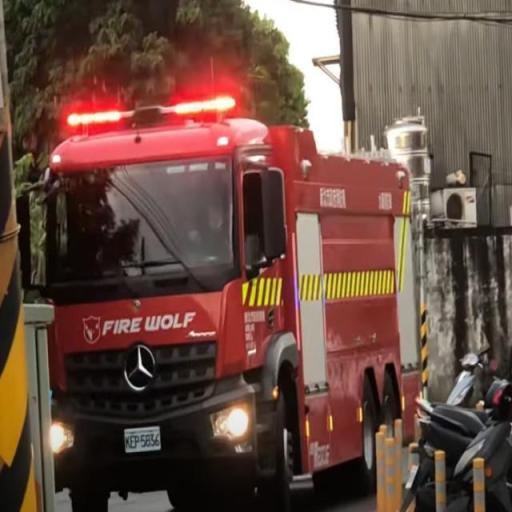fire truck: (34, 80, 414, 510)
